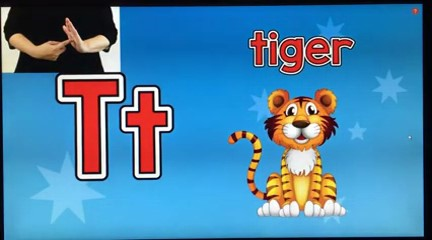T: (31, 12, 90, 63)
